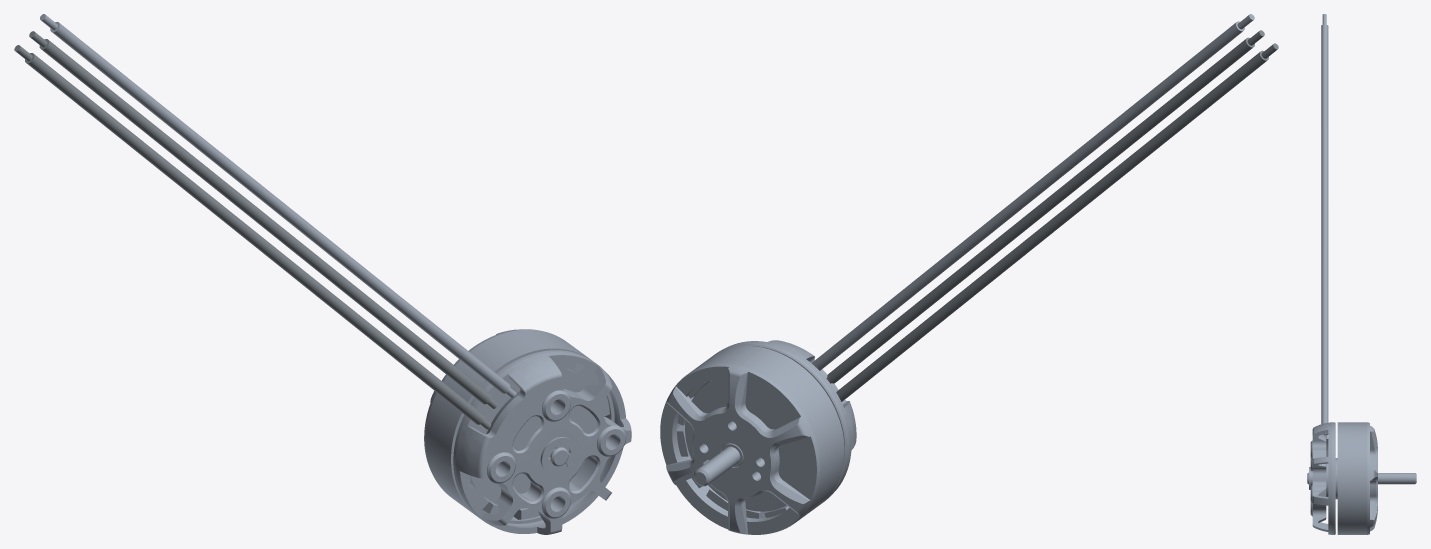
File: web.glb
3 renders of one model, left to right at view 1: azimuth 30°, elevation 25°; view 2: azimuth 150°, elevation 25°; view 3: azimuth 270°, elevation 25°, orthographic. The views are drawn at different scales.
Parts seen in each view (by area): view 1: SNAIL_2305_BRUSHLESS_DC_MOTOR_A, SNAIL_2305_BRUSHLESS_DC_MOTOR_A002, SNAIL_2305_BRUSHLESS_DC_MOTOR_A001; view 2: SNAIL_2305_BRUSHLESS_DC_MOTOR_A, SNAIL_2305_BRUSHLESS_DC_MOTOR_A002, SNAIL_2305_BRUSHLESS_DC_MOTOR_A001; view 3: SNAIL_2305_BRUSHLESS_DC_MOTOR_A.
Part boxes in pixels (bbox=[...]): SNAIL_2305_BRUSHLESS_DC_MOTOR_A: bbox=[40, 14, 631, 534]; SNAIL_2305_BRUSHLESS_DC_MOTOR_A002: bbox=[14, 45, 491, 429]; SNAIL_2305_BRUSHLESS_DC_MOTOR_A001: bbox=[29, 31, 497, 408]; SNAIL_2305_BRUSHLESS_DC_MOTOR_A: bbox=[660, 14, 1254, 534]; SNAIL_2305_BRUSHLESS_DC_MOTOR_A002: bbox=[836, 43, 1278, 401]; SNAIL_2305_BRUSHLESS_DC_MOTOR_A001: bbox=[826, 30, 1264, 383]; SNAIL_2305_BRUSHLESS_DC_MOTOR_A: bbox=[1307, 14, 1416, 534].
Bounding box in the file's own units: 0.1062 × 0.106 × 0.0282.
